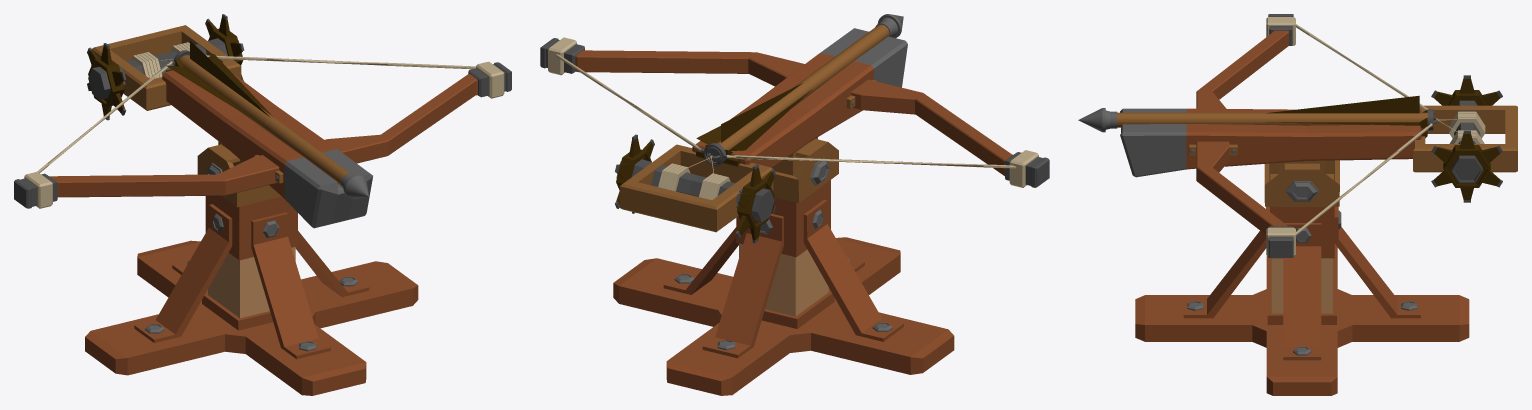
File: Ballista.fbx
3 views of the same model, side by side, from view 1: azimuth 30°, elevation 25°; view 2: azimuth 150°, elevation 25°; view 3: azimuth 270°, elevation 25° (orthographic). The views are drawn at different scales.
Visible parts, largest first — view 1: Main Joint, BOW, Main Bit, Arrow, Back Frame, Back Turning Gear, Back Rope; view 2: Main Joint, BOW, Main Bit, Back Frame, Arrow, Back Turning Gear, Back Rope; view 3: Main Joint, Main Bit, BOW, Arrow, Back Turning Gear, Back Frame, Back Rope.
Boxes of the visible parts, x1,y1,x2,y2 form: Main Joint: (85, 141, 418, 395); BOW: (14, 55, 511, 208); Main Bit: (162, 70, 372, 228); Arrow: (166, 40, 368, 199); Back Frame: (91, 25, 241, 110); Back Turning Gear: (87, 14, 244, 120); Back Rope: (131, 42, 189, 78); Main Joint: (613, 137, 954, 395); BOW: (540, 37, 1049, 187); Main Bit: (692, 28, 907, 167); Back Frame: (619, 144, 773, 232); Arrow: (696, 14, 903, 166); Back Turning Gear: (615, 134, 775, 243); Back Rope: (658, 155, 730, 199); Main Joint: (1135, 160, 1469, 395); Main Bit: (1120, 108, 1421, 177); BOW: (1188, 14, 1432, 257); Arrow: (1078, 95, 1434, 132); Back Turning Gear: (1431, 75, 1502, 202); Back Frame: (1413, 105, 1517, 172); Back Rope: (1436, 111, 1485, 143).
Size of the model in its own units: 296 by 141 by 243.
